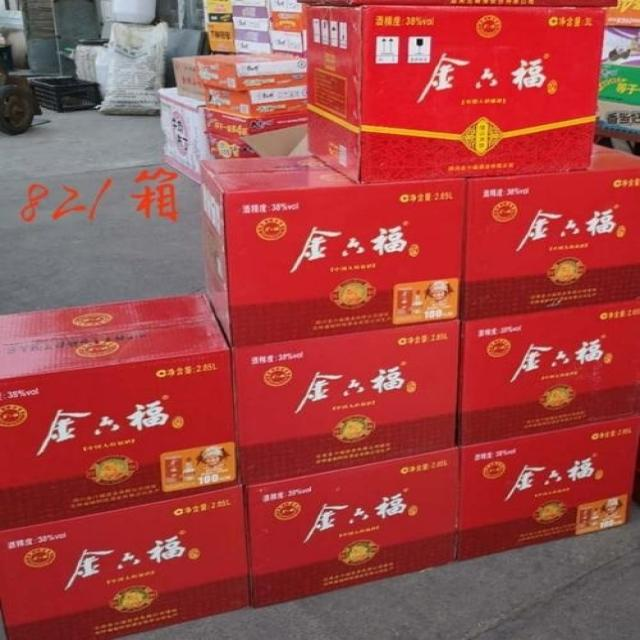box: (0, 293, 246, 531), (306, 0, 606, 183), (196, 151, 467, 350), (1, 483, 256, 638), (228, 321, 459, 483), (244, 443, 460, 606), (460, 141, 639, 318), (460, 297, 639, 442), (459, 417, 639, 561), (161, 85, 211, 186), (598, 25, 639, 140), (190, 53, 307, 91), (204, 81, 306, 119), (207, 108, 309, 145), (309, 2, 618, 12), (232, 0, 272, 53), (268, 1, 306, 55), (203, 1, 236, 54), (167, 52, 201, 98), (206, 133, 256, 156), (604, 0, 639, 24)
